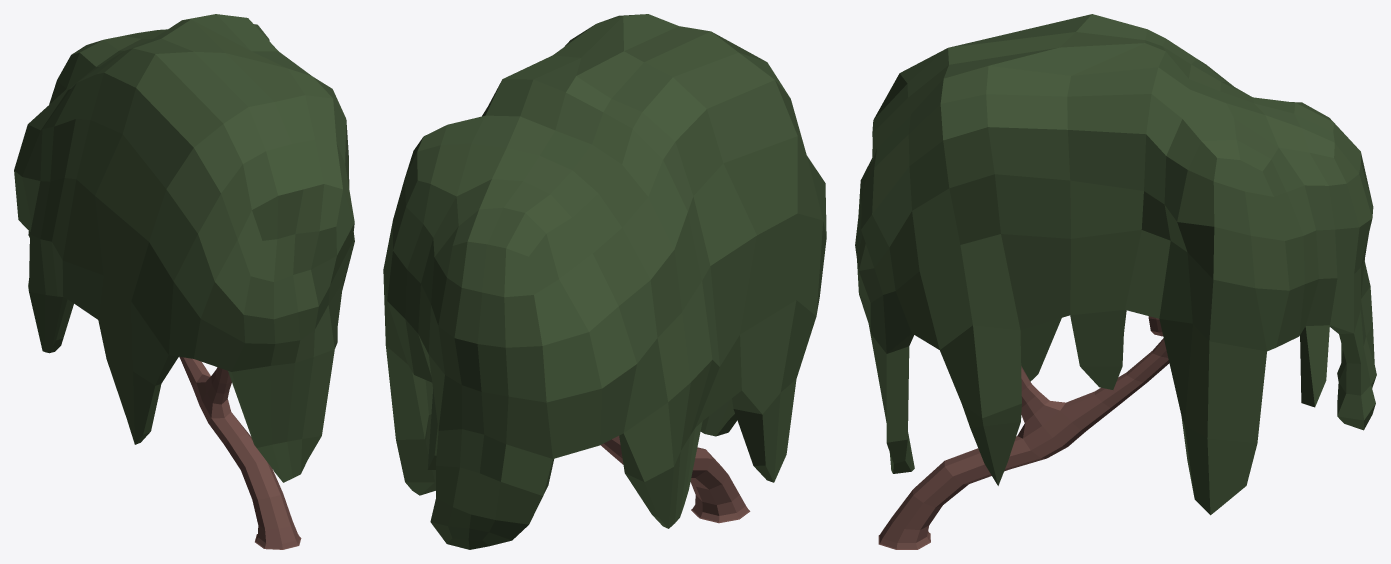
Rendered from Willow_2.glb.
The picture shows the model from 3 angles, left to right: view 1: azimuth 30°, elevation 25°; view 2: azimuth 150°, elevation 25°; view 3: azimuth 270°, elevation 25°; orthographic projection. The views are drawn at different scales.
Parts seen in each view (by area): view 1: Willow_2; view 2: Willow_2; view 3: Willow_2.
Boxes of the visible parts, bbox=[...] form: Willow_2: bbox=[14, 14, 354, 549]; Willow_2: bbox=[383, 14, 826, 549]; Willow_2: bbox=[855, 14, 1376, 549].
Bounding box in the file's own units: 1.95 × 3.32 × 3.11.
